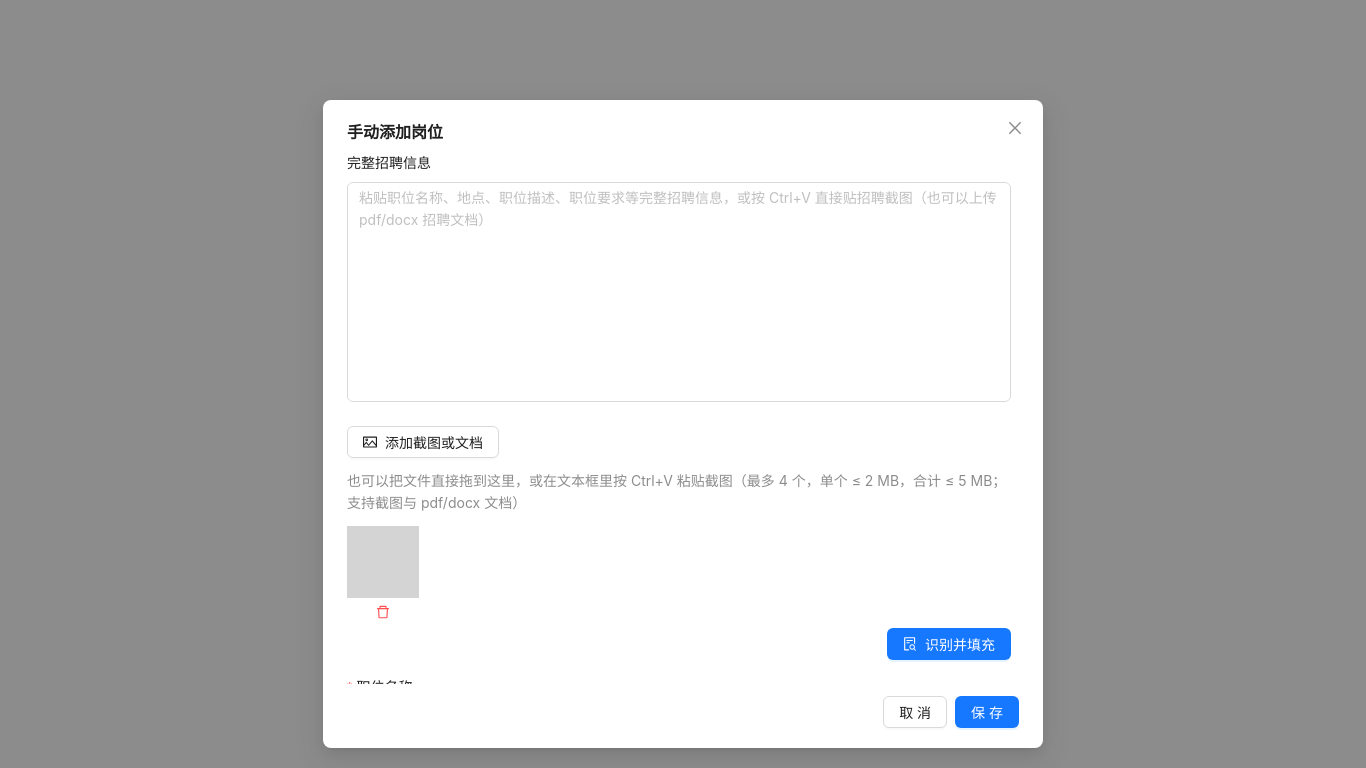
Test case: JobFormModal 图片识别 › sends pasted screenshots even when the textarea is empty
Click the button "识别并填充" at (949, 644), box [887, 628, 1011, 660]
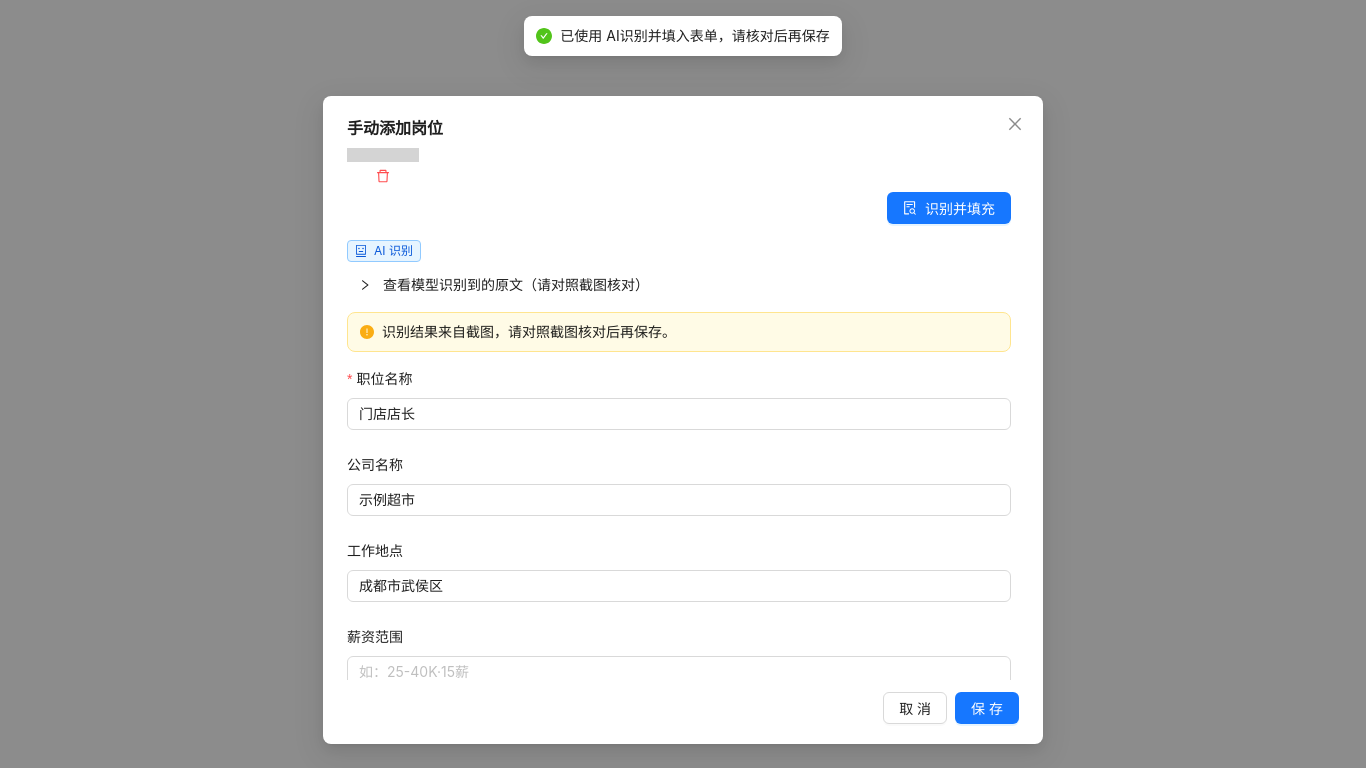
Result: the field labelled "职位名称" holds "门店店长" at [347, 398, 1011, 430]
